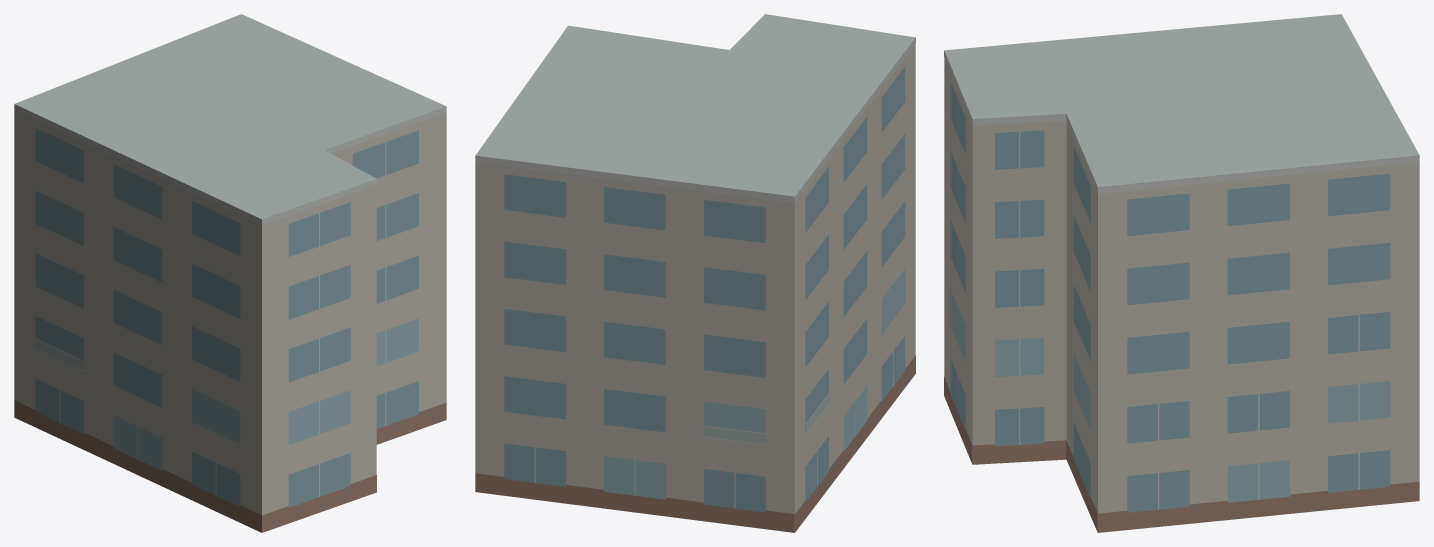
Rendered from survey-upis-32622130.glb.
3 views of the same model, side by side, from view 1: azimuth 30°, elevation 25°; view 2: azimuth 150°, elevation 25°; view 3: azimuth 270°, elevation 25° (orthographic). The views are drawn at different scales.
Visible parts, largest first — view 1: survey-upis-32622130.tmp; view 2: survey-upis-32622130.tmp; view 3: survey-upis-32622130.tmp.
Boxes of the visible parts, x1=… form: survey-upis-32622130.tmp: x1=14, y1=14, x2=446, y2=532; survey-upis-32622130.tmp: x1=475, y1=14, x2=915, y2=532; survey-upis-32622130.tmp: x1=944, y1=14, x2=1419, y2=532.
Bounding box in the file's own units: 13.38 × 12.45 × 15.53.
